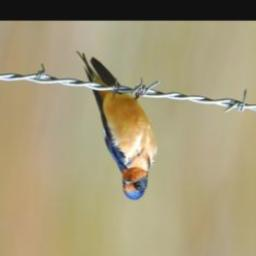Swallow: (75, 51, 159, 202)
